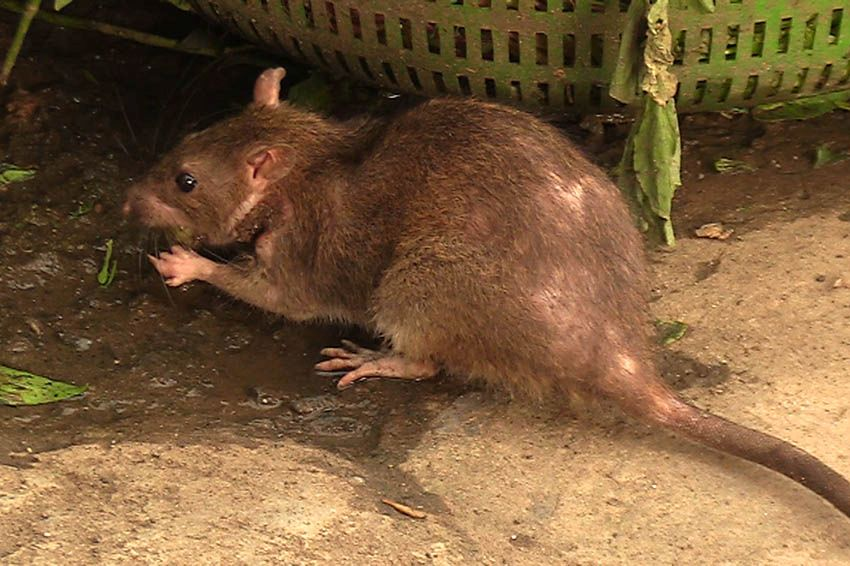rat: (102, 52, 785, 476)
